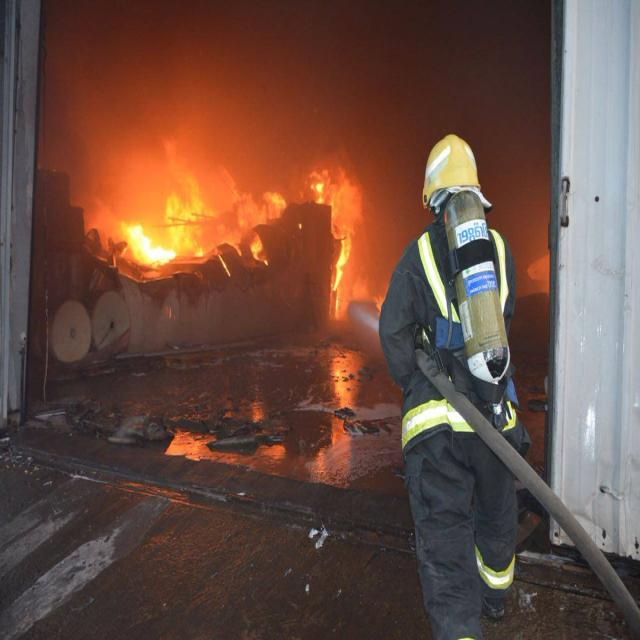fire: (79, 142, 362, 358)
person: (378, 115, 550, 629)
